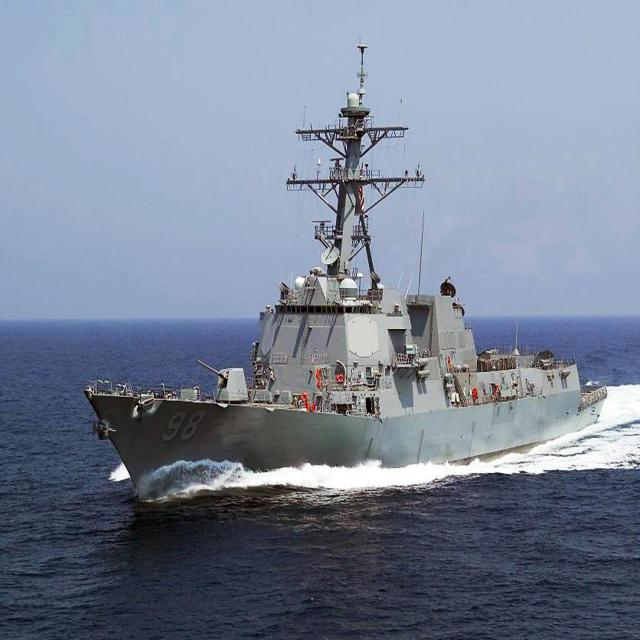navalvessels: (58, 50, 608, 491)
